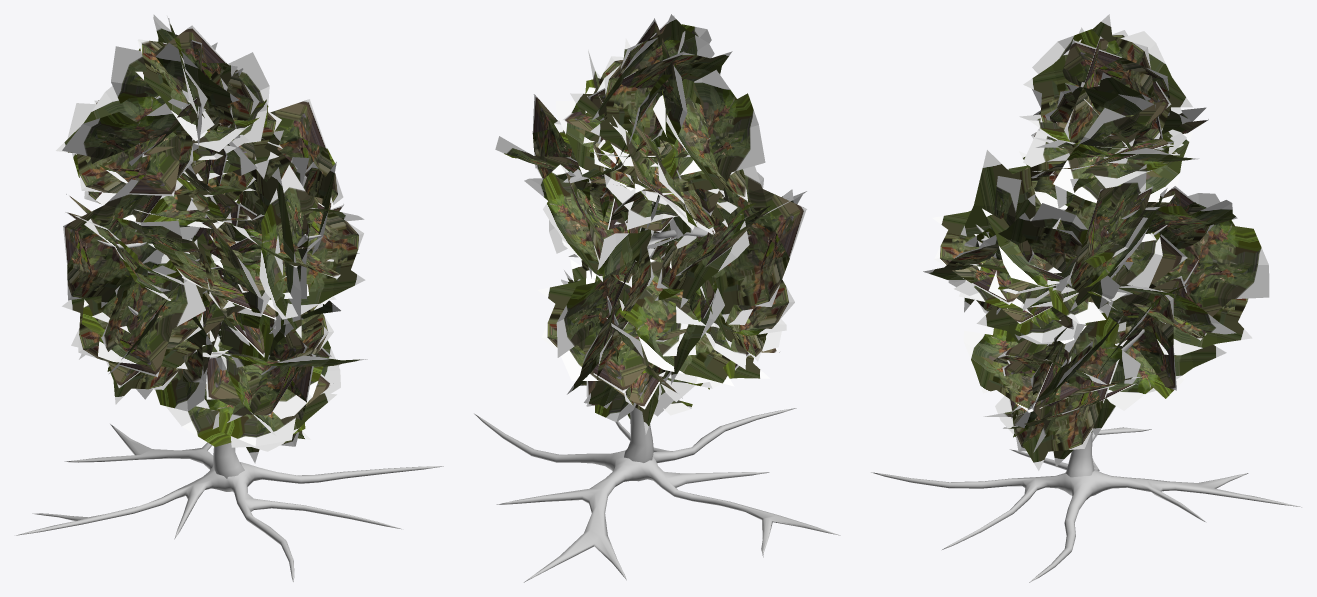
The model's file is Derevo low pol3i.fbx.
3 views of the same model, side by side, from view 1: azimuth 30°, elevation 25°; view 2: azimuth 150°, elevation 25°; view 3: azimuth 270°, elevation 25° (orthographic). The views are drawn at different scales.
Parts seen in each view (by area): view 1: Cube, Derevo|Bush_Branch_qgphP2_atlas_Preview|Dupli|5, Derevo|Bush_Branch_qgphP2_atlas_Preview|Dupli|75, Derevo|Bush_Branch_qgphP2_atlas_Preview|Dupli|29, Derevo|Bush_Branch_qgphP2_atlas_Preview|Dupli|31, Derevo|Bush_Branch_qgphP2_atlas_Preview|Dupli|44, Bush_Branch_qgphP2_atlas_Preview, Derevo|Bush_Branch_qgphP2_atlas_Preview|Dupli|20, Derevo|Bush_Branch_qgphP2_atlas_Preview|Dupli|24, Derevo|Bush_Branch_qgphP2_atlas_Preview|Dupli|8, Derevo|Bush_Branch_qgphP2_atlas_Preview|Dupli|91, Derevo|Bush_Branch_qgphP2_atlas_Preview|Dupli|78 (+38 smaller); view 2: Cube, Derevo|Bush_Branch_qgphP2_atlas_Preview|Dupli|5, Derevo|Bush_Branch_qgphP2_atlas_Preview|Dupli|53, Derevo|Bush_Branch_qgphP2_atlas_Preview|Dupli|24, Derevo|Bush_Branch_qgphP2_atlas_Preview|Dupli|95, Derevo|Bush_Branch_qgphP2_atlas_Preview|Dupli|64, Derevo|Bush_Branch_qgphP2_atlas_Preview|Dupli|3, Derevo|Bush_Branch_qgphP2_atlas_Preview|Dupli|51, Derevo|Bush_Branch_qgphP2_atlas_Preview|Dupli|18, Derevo|Bush_Branch_qgphP2_atlas_Preview|Dupli|29, Derevo|Bush_Branch_qgphP2_atlas_Preview|Dupli|21, Derevo|Bush_Branch_qgphP2_atlas_Preview|Dupli|56 (+35 smaller); view 3: Cube, Derevo|Bush_Branch_qgphP2_atlas_Preview|Dupli|53, Bush_Branch_qgphP2_atlas_Preview, Derevo|Bush_Branch_qgphP2_atlas_Preview|Dupli|87, Derevo|Bush_Branch_qgphP2_atlas_Preview|Dupli|8, Derevo|Bush_Branch_qgphP2_atlas_Preview|Dupli|, Derevo|Bush_Branch_qgphP2_atlas_Preview|Dupli|92, Derevo|Bush_Branch_qgphP2_atlas_Preview|Dupli|43, Derevo|Bush_Branch_qgphP2_atlas_Preview|Dupli|22, Derevo|Bush_Branch_qgphP2_atlas_Preview|Dupli|57, Derevo|Bush_Branch_qgphP2_atlas_Preview|Dupli|18, Derevo|Bush_Branch_qgphP2_atlas_Preview|Dupli|69 (+39 smaller).
Boxes of the visible parts, box(x1,y1,x2,y2) form: Cube: box(16, 424, 443, 581); Derevo|Bush_Branch_qgphP2_atlas_Preview|Dupli|5: box(63, 179, 168, 307); Derevo|Bush_Branch_qgphP2_atlas_Preview|Dupli|75: box(62, 260, 205, 377); Derevo|Bush_Branch_qgphP2_atlas_Preview|Dupli|29: box(56, 86, 214, 196); Derevo|Bush_Branch_qgphP2_atlas_Preview|Dupli|31: box(235, 202, 365, 319); Derevo|Bush_Branch_qgphP2_atlas_Preview|Dupli|44: box(259, 165, 331, 338); Bush_Branch_qgphP2_atlas_Preview: box(191, 146, 301, 370); Derevo|Bush_Branch_qgphP2_atlas_Preview|Dupli|20: box(111, 25, 259, 120); Derevo|Bush_Branch_qgphP2_atlas_Preview|Dupli|24: box(62, 98, 187, 163); Derevo|Bush_Branch_qgphP2_atlas_Preview|Dupli|8: box(270, 99, 343, 204); Derevo|Bush_Branch_qgphP2_atlas_Preview|Dupli|91: box(212, 314, 328, 429); Derevo|Bush_Branch_qgphP2_atlas_Preview|Dupli|78: box(196, 374, 333, 446); Cube: box(474, 408, 840, 582); Derevo|Bush_Branch_qgphP2_atlas_Preview|Dupli|5: box(676, 166, 806, 322); Derevo|Bush_Branch_qgphP2_atlas_Preview|Dupli|53: box(556, 229, 654, 357); Derevo|Bush_Branch_qgphP2_atlas_Preview|Dupli|24: box(694, 69, 765, 215); Derevo|Bush_Branch_qgphP2_atlas_Preview|Dupli|95: box(620, 259, 734, 386); Derevo|Bush_Branch_qgphP2_atlas_Preview|Dupli|64: box(542, 164, 632, 287); Derevo|Bush_Branch_qgphP2_atlas_Preview|Dupli|3: box(656, 172, 763, 308); Derevo|Bush_Branch_qgphP2_atlas_Preview|Dupli|51: box(538, 278, 696, 393); Derevo|Bush_Branch_qgphP2_atlas_Preview|Dupli|18: box(590, 15, 674, 149); Derevo|Bush_Branch_qgphP2_atlas_Preview|Dupli|29: box(661, 90, 747, 201); Derevo|Bush_Branch_qgphP2_atlas_Preview|Dupli|21: box(587, 51, 732, 120); Derevo|Bush_Branch_qgphP2_atlas_Preview|Dupli|56: box(612, 116, 727, 234); Cube: box(871, 427, 1301, 582); Derevo|Bush_Branch_qgphP2_atlas_Preview|Dupli|53: box(1178, 193, 1269, 316); Bush_Branch_qgphP2_atlas_Preview: box(948, 150, 1187, 341); Derevo|Bush_Branch_qgphP2_atlas_Preview|Dupli|87: box(1003, 309, 1140, 436); Derevo|Bush_Branch_qgphP2_atlas_Preview|Dupli|8: box(1067, 164, 1146, 310); Derevo|Bush_Branch_qgphP2_atlas_Preview|Dupli|: box(995, 359, 1119, 470); Derevo|Bush_Branch_qgphP2_atlas_Preview|Dupli|92: box(963, 328, 1079, 412); Derevo|Bush_Branch_qgphP2_atlas_Preview|Dupli|43: box(932, 211, 1061, 305); Derevo|Bush_Branch_qgphP2_atlas_Preview|Dupli|22: box(1032, 29, 1192, 141); Derevo|Bush_Branch_qgphP2_atlas_Preview|Dupli|57: box(982, 208, 1105, 323); Derevo|Bush_Branch_qgphP2_atlas_Preview|Dupli|18: box(1032, 39, 1190, 133); Derevo|Bush_Branch_qgphP2_atlas_Preview|Dupli|69: box(1053, 122, 1192, 210).
Bounding box in the file's own units: 2668 × 3184 × 2641.
